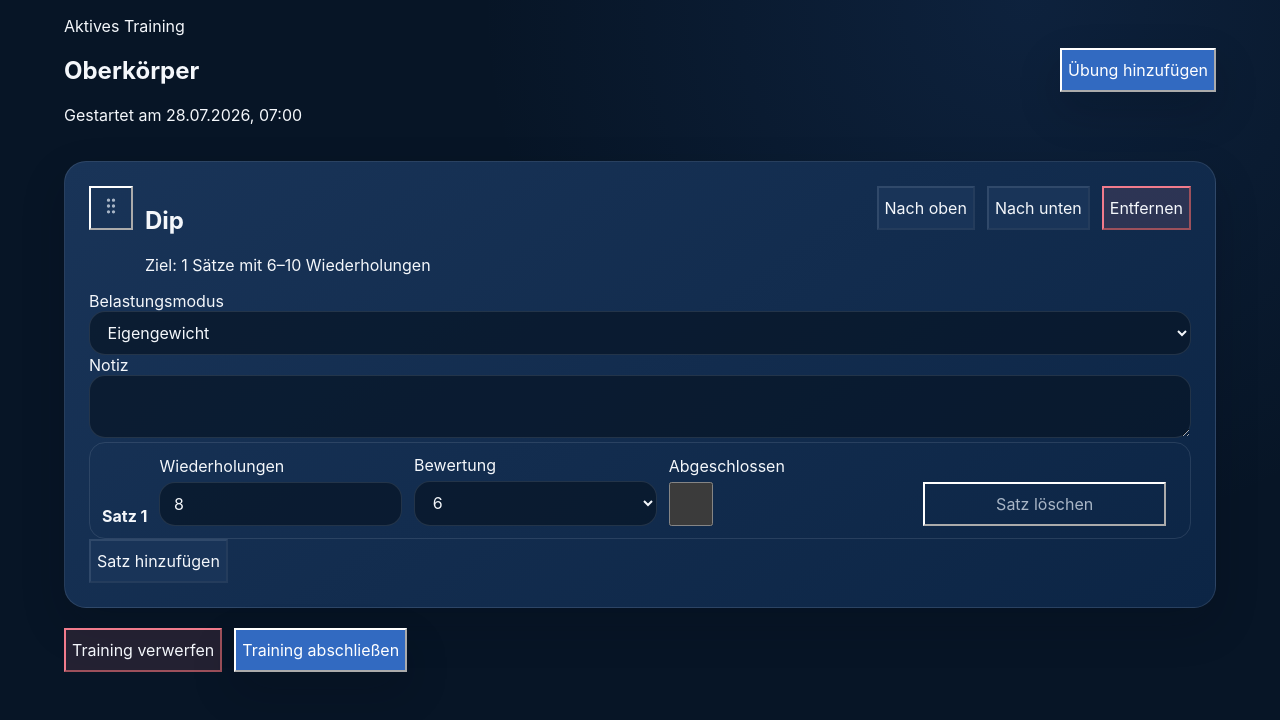
Test: ActiveWorkoutPage › supports bodyweight, added, and assisted modes for Dips
Expected: the heading "Dip" is shown, [145,206,184,235]
Select "Zusatzgewicht" in the dropdown named "Belastungsmodus für Dip" at {"x": 640, "y": 333}, box [89,311,1191,355]
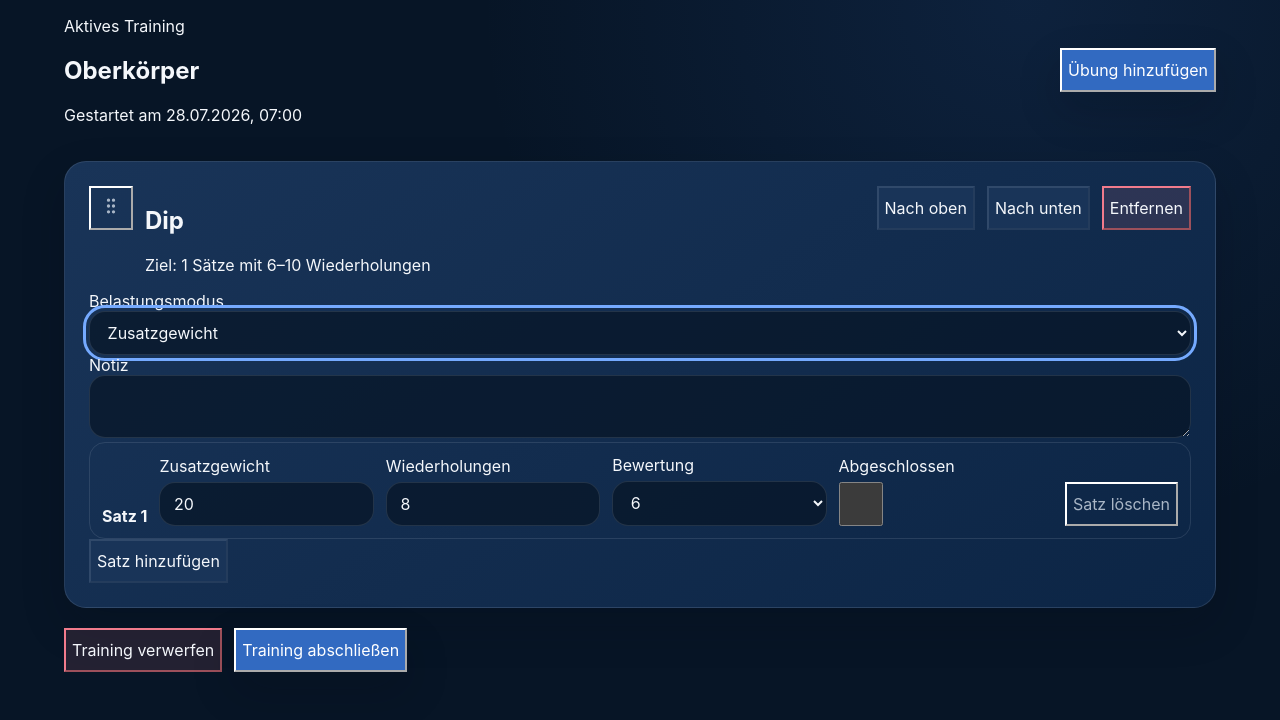
Expected: the label named "Satz 1 Gewicht" reads "Zusatzgewicht", [160,456,270,476]
Select "Unterstützung" in the dropdown named "Belastungsmodus für Dip" at {"x": 640, "y": 333}, box [89,311,1191,355]
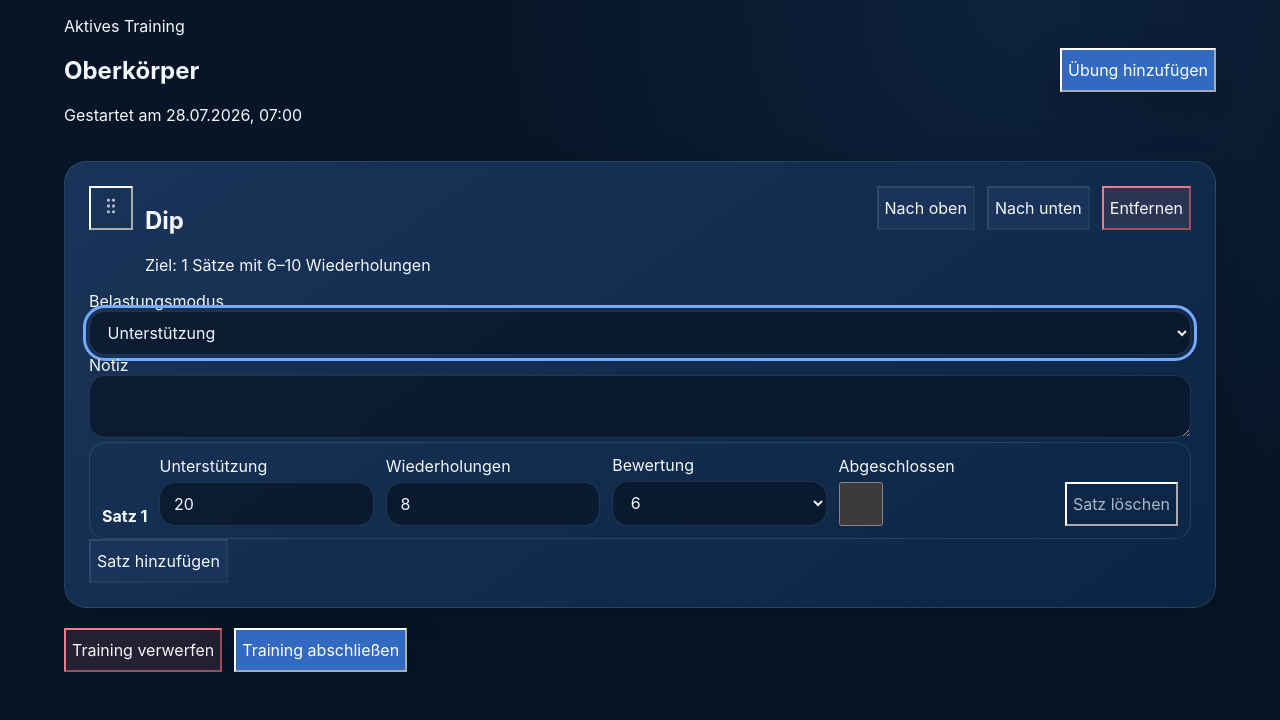
Expected: the label named "Satz 1 Gewicht" reads "Unterstützung", [160,456,267,476]
